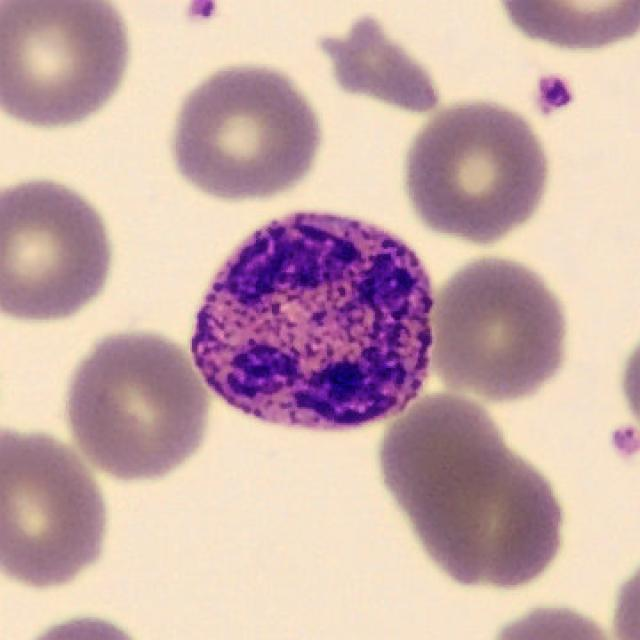Neutrofilo segmentado: (190, 213, 434, 434)
